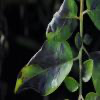Potato leaf late blight: (13, 35, 74, 95), (45, 0, 78, 44), (88, 51, 99, 95), (85, 0, 99, 32), (81, 58, 94, 83), (74, 30, 83, 49), (83, 33, 94, 46)
